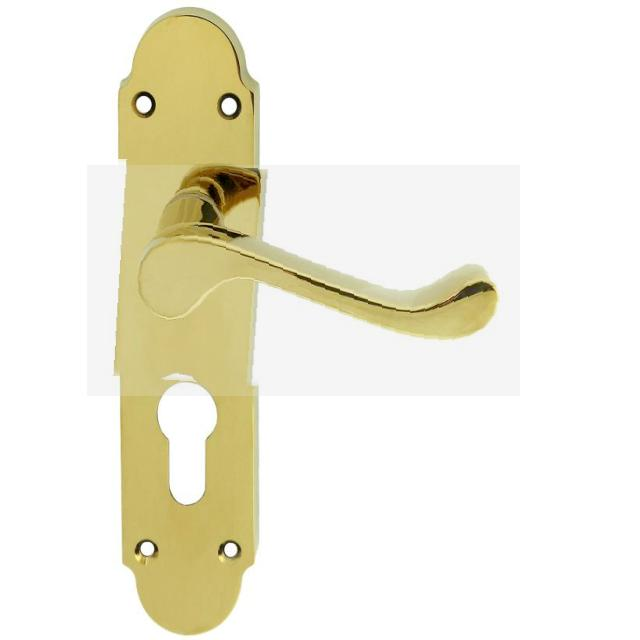doorhandle: (87, 165, 520, 396)
